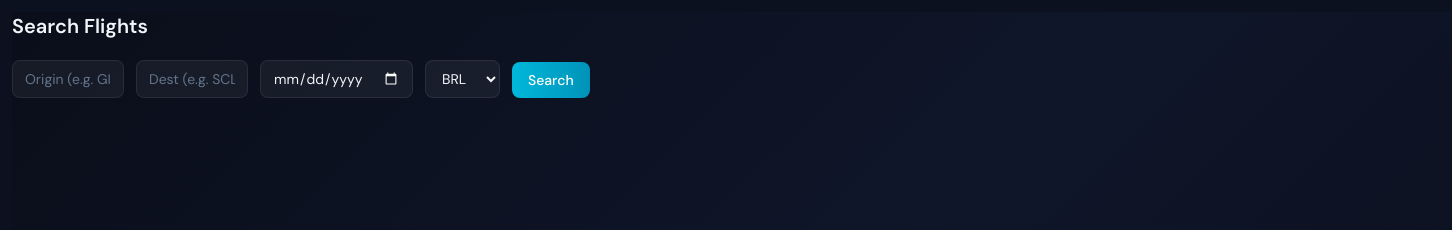
Test case: SearchFlights › submits search and displays results
Step 1. Type "GIG" into the field with placeholder "Origin (e.g. GIG)" → (68, 79), box [12, 60, 124, 98]
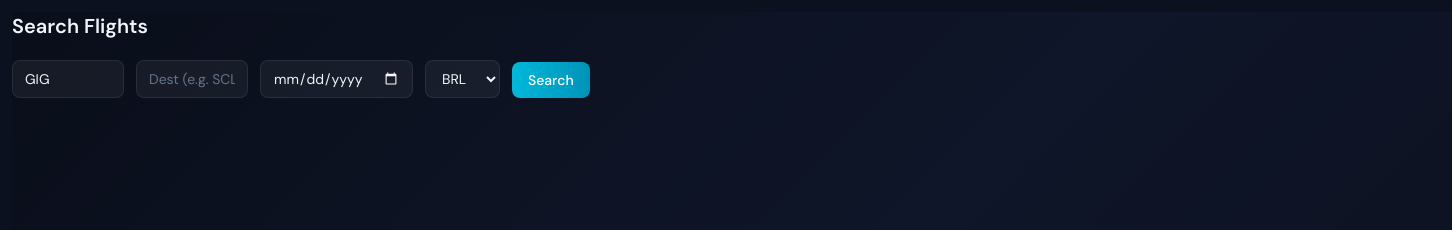
Step 2. Type "SCL" into the field with placeholder "Dest (e.g. SCL)" → (192, 79), box [136, 60, 248, 98]
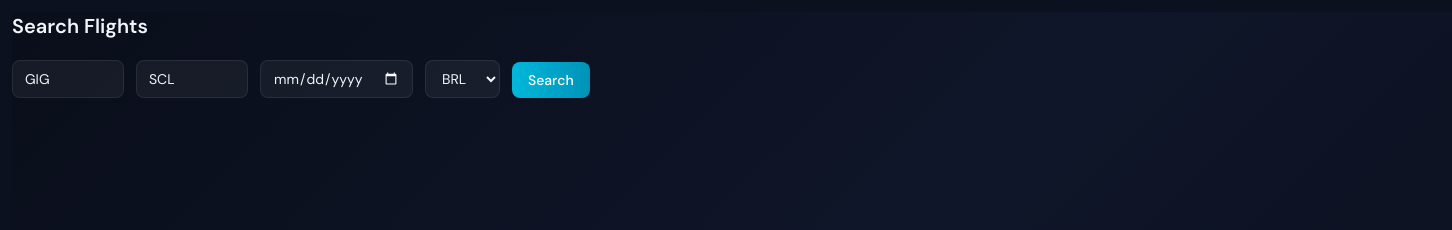
Step 3. Click the button "Search" → (551, 80), box [512, 62, 590, 98]
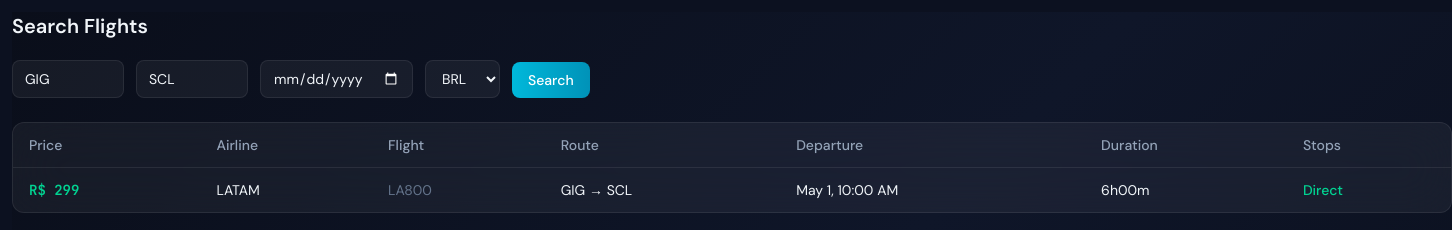
Expected: the text "R$ 299" is shown, [13, 168, 200, 212]
Expected: the text "LATAM" is shown, [200, 168, 372, 212]
Expected: the text "Direct" is shown, [1303, 181, 1343, 199]
